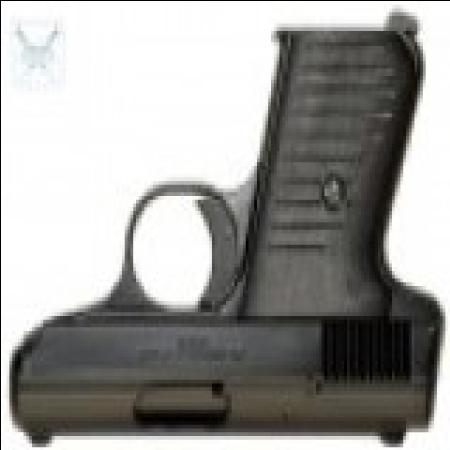Pistol: (11, 23, 433, 435)
